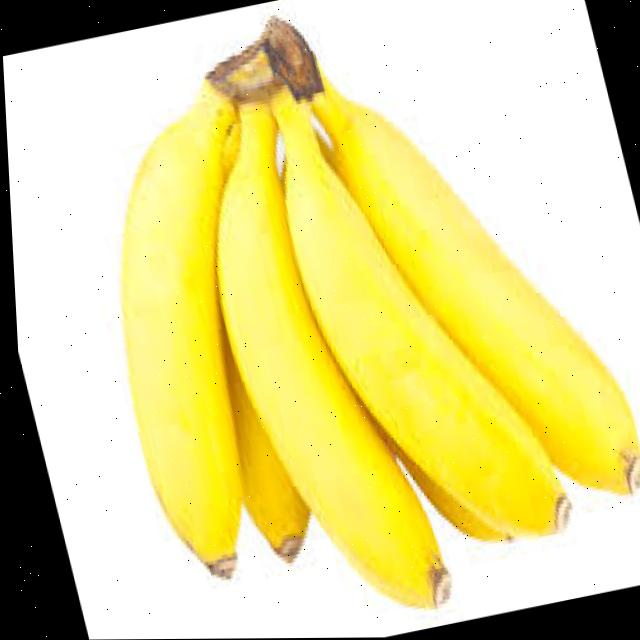Banana: (310, 76, 635, 494), (271, 88, 562, 533), (214, 103, 443, 606), (118, 81, 238, 574)
